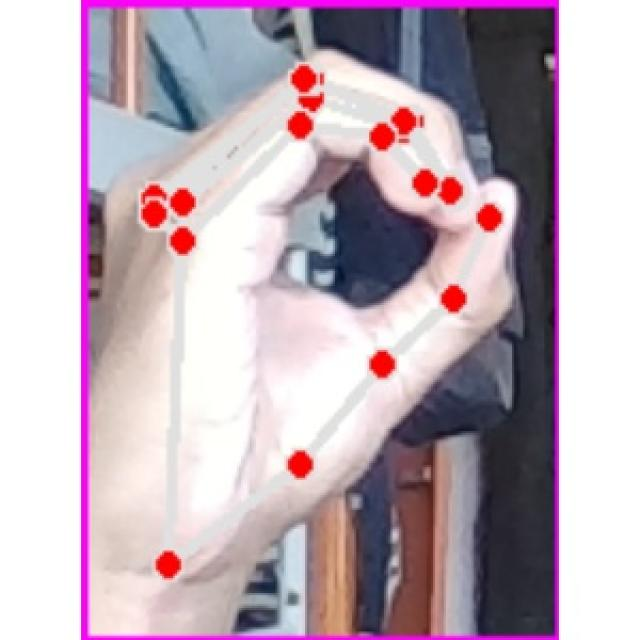O: (98, 41, 534, 606)
